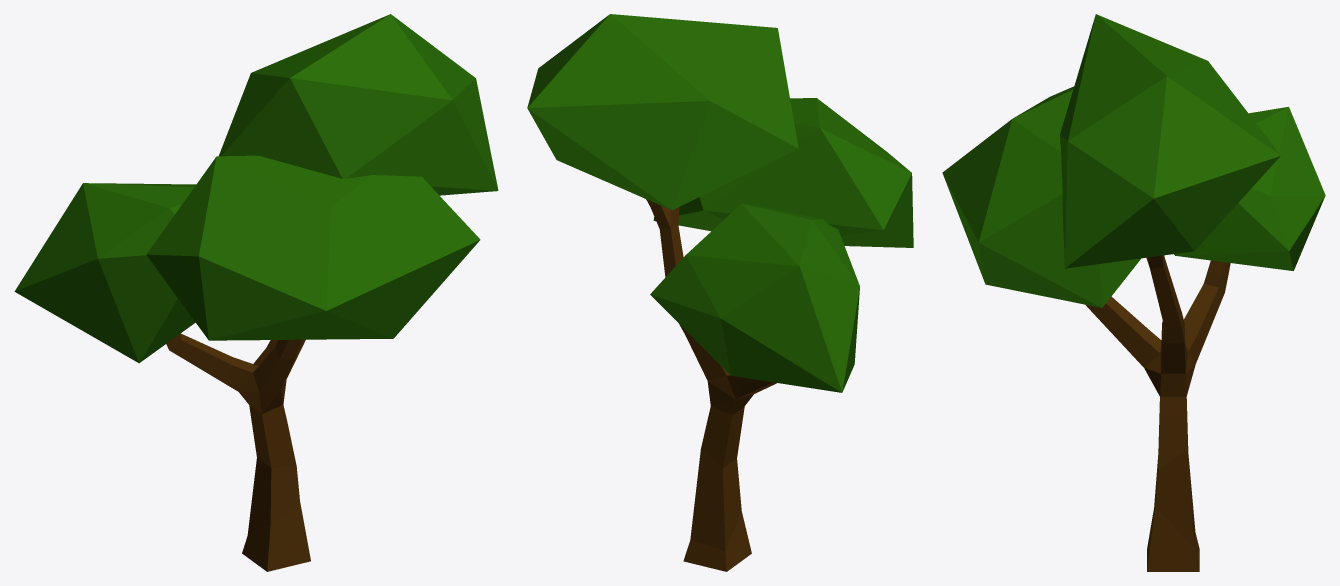
File: OakTree2.fbx
3 views of the same model, side by side, from view 1: azimuth 30°, elevation 25°; view 2: azimuth 150°, elevation 25°; view 3: azimuth 270°, elevation 25° (orthographic). The views are drawn at different scales.
Parts seen in each view (by area): view 1: OakTree2; view 2: OakTree2; view 3: OakTree2.
Part boxes in pixels (bbox=[...]): OakTree2: bbox=[14, 14, 498, 571]; OakTree2: bbox=[527, 14, 913, 571]; OakTree2: bbox=[942, 14, 1325, 571].
Bounding box in the file's own units: 7.15 × 9.22 × 5.92.
